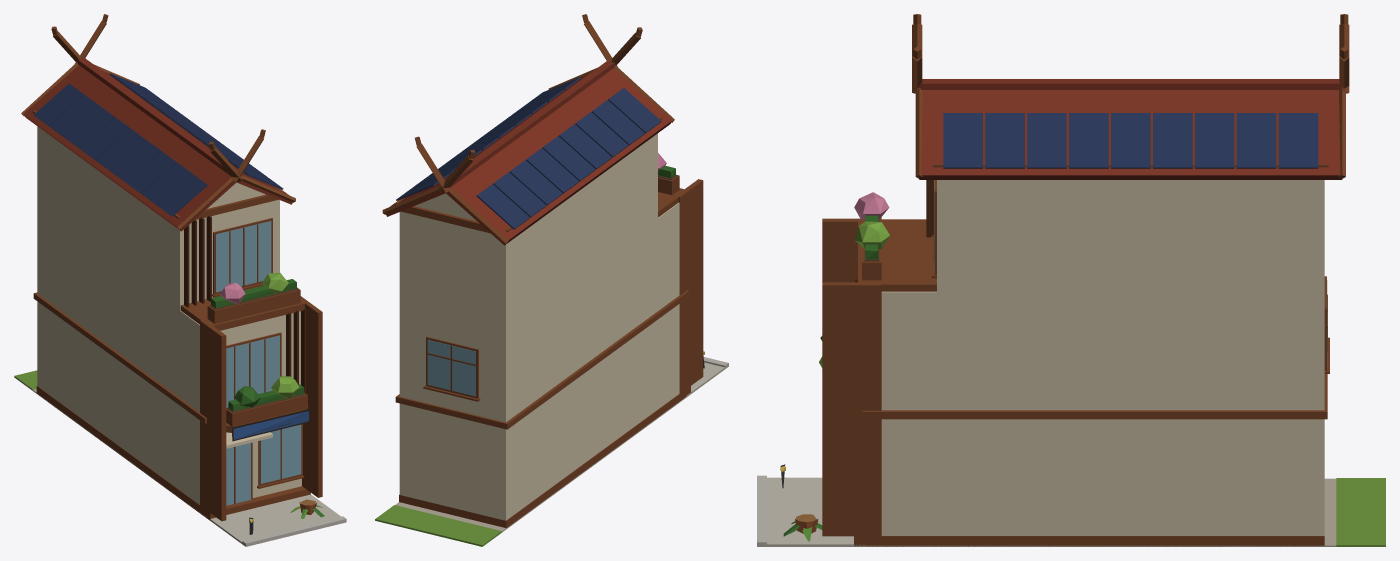
File: bay1_mid.glb
The picture shows the model from 3 angles, left to right: view 1: azimuth 30°, elevation 25°; view 2: azimuth 150°, elevation 25°; view 3: azimuth 270°, elevation 25°; orthographic projection. The views are drawn at different scales.
Visible parts, largest first — view 1: body; view 2: body; view 3: body.
Boxes of the visible parts, x1=… form: body: x1=14, y1=14, x2=346, y2=546; body: x1=375, y1=14, x2=728, y2=546; body: x1=757, y1=14, x2=1385, y2=546.
Bounding box in the file's own units: 4.7 × 13.47 × 15.9.
